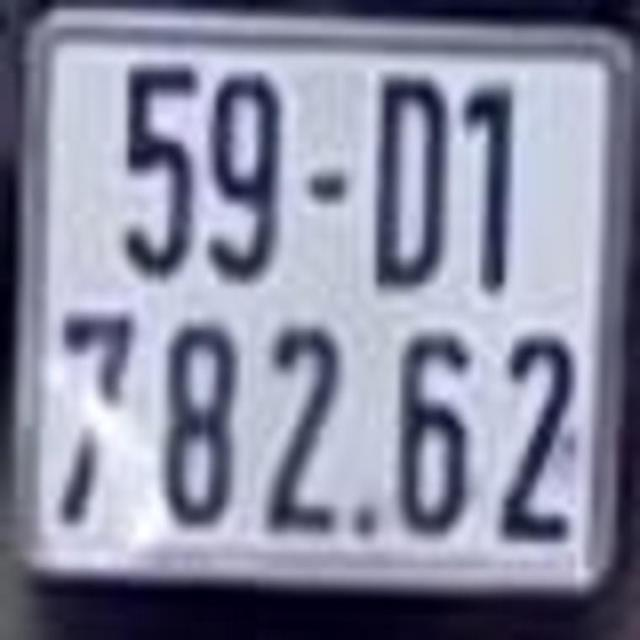1: (467, 79, 516, 288)
2: (266, 321, 338, 530), (503, 330, 568, 544)
5: (126, 66, 192, 277)
6: (394, 327, 477, 531)
7: (53, 299, 135, 535)
8: (164, 320, 232, 531)
9: (214, 72, 274, 282)
D: (378, 68, 451, 292)
